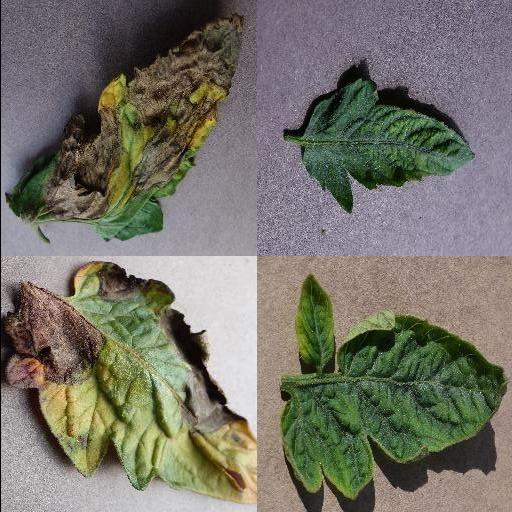Late Blight: (0, 256, 256, 504), (0, 14, 248, 244)
Mosaic Virus: (299, 77, 474, 216)
Yellow Leaf Curl Virus: (280, 312, 508, 500), (295, 275, 335, 369)
